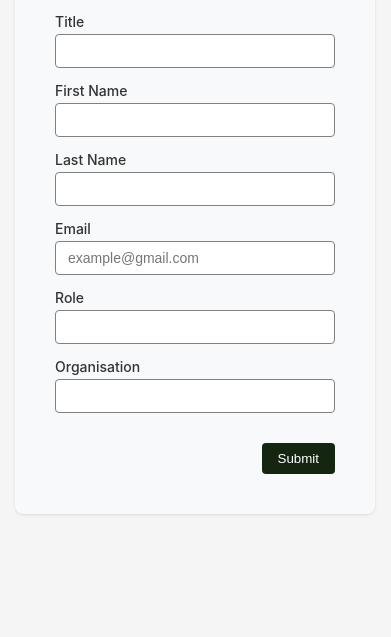
Test: StakeholerForm › shows validation errors for required fields
The image size is (391, 637).
Click the button: [298, 458] box [262, 443, 335, 474]
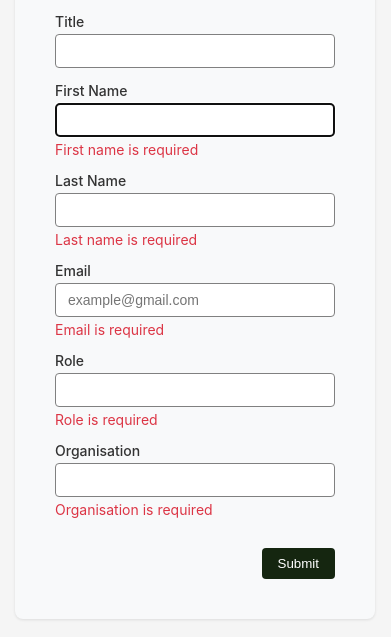
Expected: the text "First name is required" is shown, [55, 141, 198, 158]
Expected: the text "Last name is required" is shown, [55, 231, 197, 248]
Expected: the text "Email is required" is shown, [55, 321, 164, 338]
